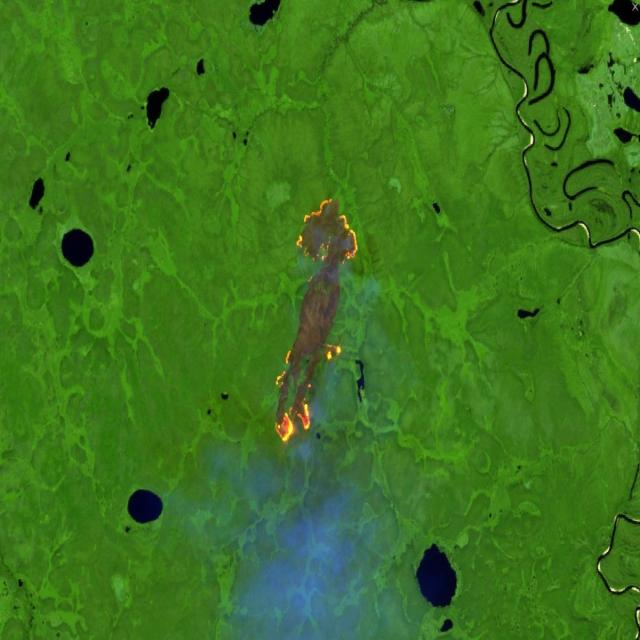fire: (269, 192, 365, 450)
